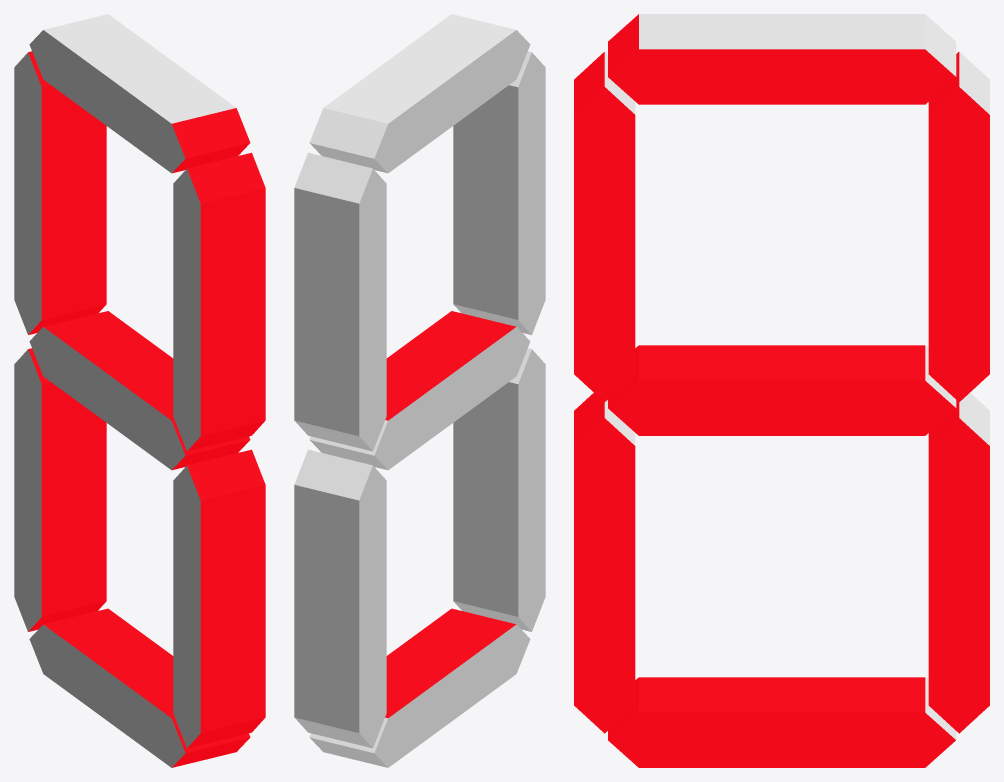
The model's file is score_unit_emptyparent.glb.
3 views of the same model, side by side, from view 1: azimuth 30°, elevation 25°; view 2: azimuth 150°, elevation 25°; view 3: azimuth 270°, elevation 25° (orthographic). The views are drawn at different scales.
Parts seen in each view (by area): view 1: on.tl, on.bl, off.t, on.br, on.tr, on.b, on.m, off.bl, off.tr, off.br, off.tl, off.b (+2 smaller); view 2: off.tr, off.br, off.bl, off.tl, off.t, off.b, off.m, on.b, on.m; view 3: on.b, on.m, on.tl, on.t, on.bl, on.tr, on.br, off.t, off.tr, off.br.
Part boxes in pixels (bbox=[...]): on.tl: bbox=[187, 152, 265, 451]; on.bl: bbox=[187, 449, 265, 748]; off.t: bbox=[29, 14, 235, 173]; on.br: bbox=[28, 348, 106, 631]; on.tr: bbox=[28, 51, 106, 334]; on.b: bbox=[44, 608, 250, 767]; on.m: bbox=[43, 311, 250, 470]; off.bl: bbox=[173, 466, 200, 747]; off.tr: bbox=[14, 52, 41, 334]; off.br: bbox=[14, 349, 41, 631]; off.tl: bbox=[173, 169, 200, 450]; off.b: bbox=[29, 624, 185, 767]; off.tr: bbox=[294, 152, 386, 451]; off.br: bbox=[294, 449, 386, 748]; off.bl: bbox=[453, 348, 545, 631]; off.tl: bbox=[453, 51, 545, 334]; off.t: bbox=[309, 14, 530, 173]; off.b: bbox=[309, 624, 530, 767]; off.m: bbox=[309, 327, 530, 470]; on.b: bbox=[385, 608, 515, 717]; on.m: bbox=[385, 311, 515, 420]; on.b: bbox=[608, 677, 955, 767]; on.m: bbox=[608, 345, 955, 435]; on.tl: bbox=[574, 52, 635, 402]; on.t: bbox=[608, 14, 955, 104]; on.bl: bbox=[574, 393, 635, 733]; on.tr: bbox=[928, 52, 989, 402]; on.br: bbox=[928, 400, 989, 733]; off.t: bbox=[639, 14, 956, 76]; off.tr: bbox=[959, 52, 989, 114]; off.br: bbox=[959, 393, 989, 445].
Size of the model in its own units: 2.66 by 25.17 by 13.2.
